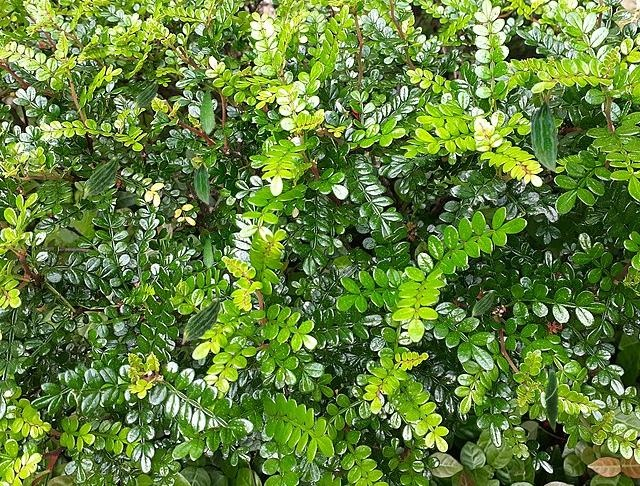ampalaya: (529, 98, 559, 172), (181, 297, 220, 344), (82, 156, 119, 199), (542, 362, 561, 432), (198, 87, 216, 136), (193, 161, 210, 204), (133, 81, 158, 110), (470, 290, 494, 318), (202, 236, 214, 269)
